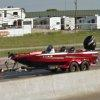Boat: (7, 39, 99, 78)
